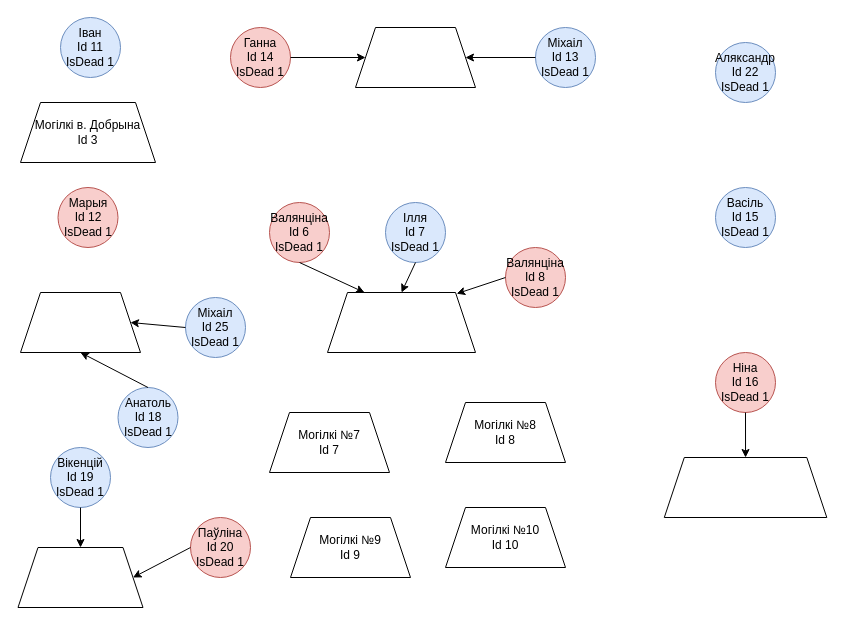
Image size: 844x625. Some labels were removed from this diagram. Here are the shapes that lost their labels. From the top down, the box of each, then its label:
(354, 26, 476, 88): Кальварыйскія Id 4
(20, 292, 140, 352): Заслаўскія Id 1
(326, 292, 476, 352): Могілкі в. Захарычы Id 2
(663, 456, 827, 518): Могілкі в. Старое Сяло Id 5
(17, 546, 143, 608): Могілкі в. Гервелі Id 6
